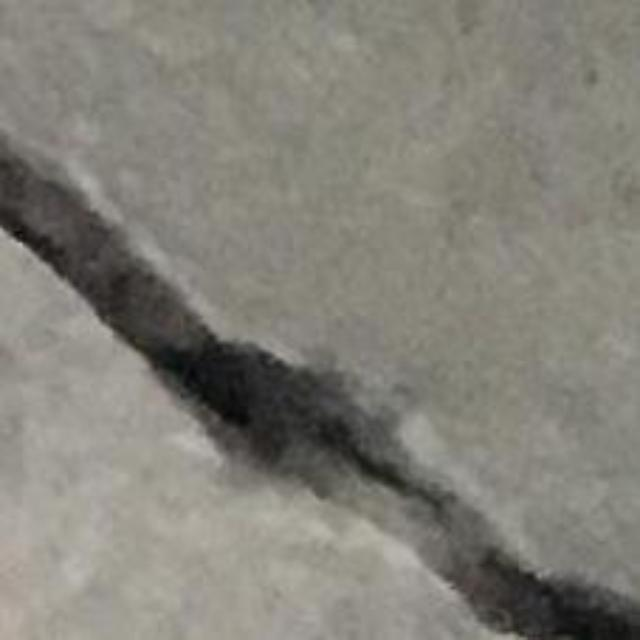crack: (0, 139, 639, 639)
